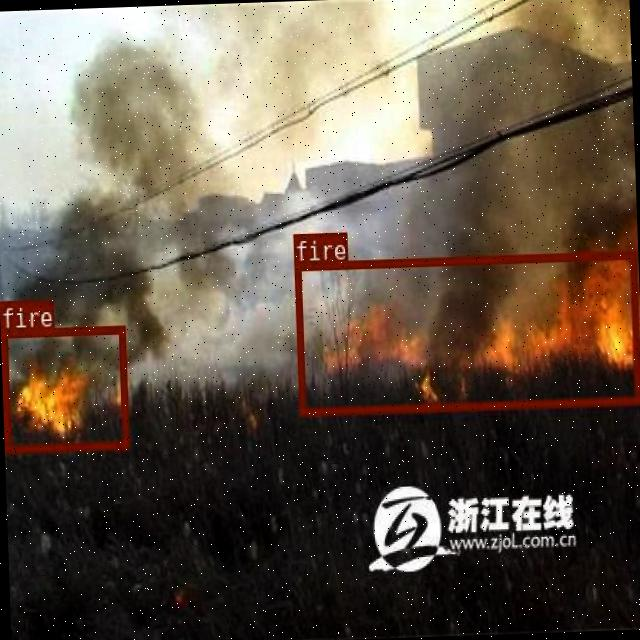fire: (294, 249, 640, 414), (0, 324, 126, 450)
